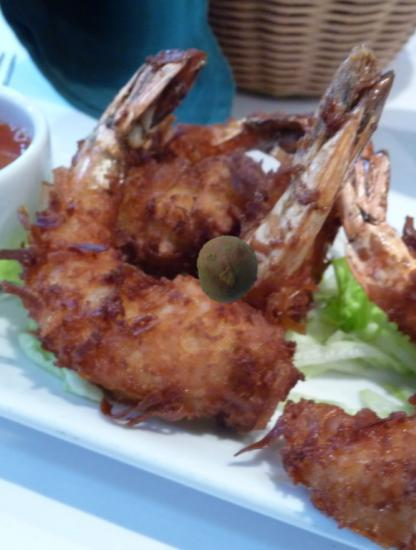Potato: (192, 234, 262, 304)
